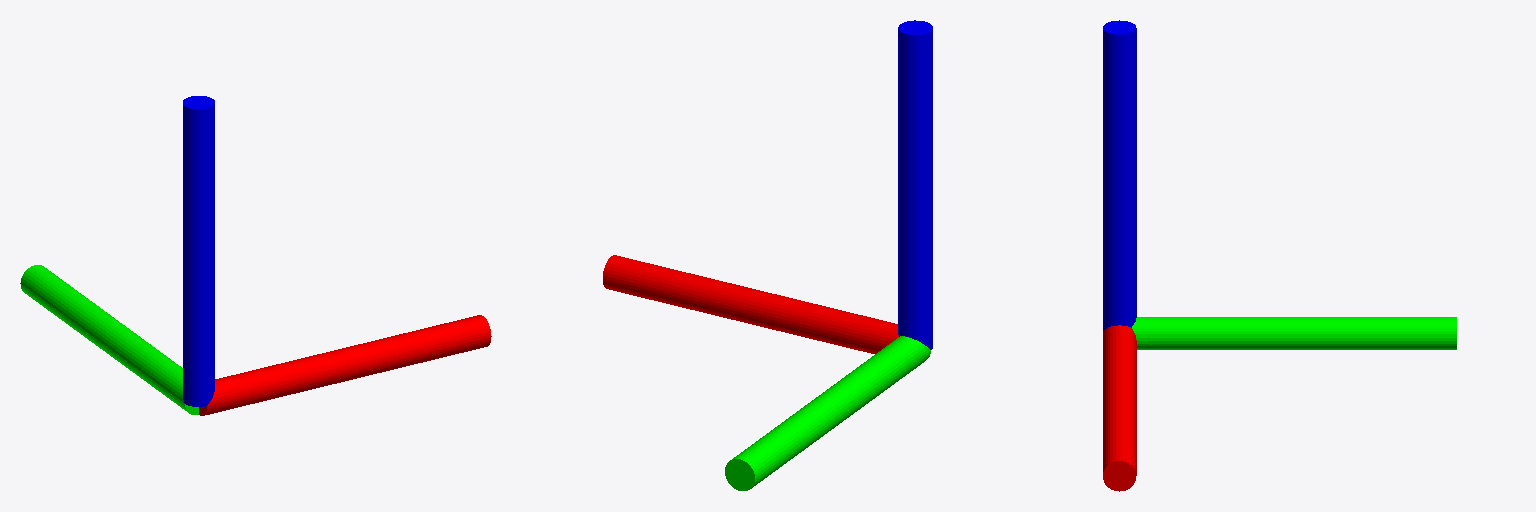
The robot description file, URDF, robot "axis":
<?xml version="1.0" ?>
<robot name="axis">
    <link name="axis">
        <visual name="x_axis">
            <geometry>
                <cylinder length="0.1" radius="0.005"/>
            </geometry>
            <origin xyz="0.05 0 0" rpy="0 1.5707 0"/> <!-- Rotate 90 degrees around Z -->
            <material name="red">
                <color rgba="1 0 0 1"/> <!-- Red Color -->
            </material>
        </visual>

        <!-- Green Arrow for Y-axis -->
        <visual name="z_axis">
            <geometry>
                <cylinder length="0.1" radius="0.005"/>
            </geometry>
            <origin xyz="0 0 0.05" rpy="0 0 1.5707"/> <!-- Rotate -90 degrees around Y -->
            <material name="blue">
                <color rgba="0 0 1 1"/> <!-- Green Color -->
            </material>
        </visual>

        <!-- Blue Arrow for Z-axis -->
        <visual name="y_axis">
            <geometry>
                <cylinder length="0.1" radius="0.005"/>
            </geometry>
            <origin xyz="0 0.05 0" rpy="1.5707 0 0"/> <!-- No rotation needed -->
            <material name="green">
                <color rgba="0 1 0 1"/> <!-- Blue Color -->
            </material>
        </visual>
    </link>
</robot>

--- What the picture shows (computed from the rendered views, not written in the file) ---
Views: 3 orthographic renders of the robot side by side, from view 1: azimuth 30°, elevation 25°; view 2: azimuth 150°, elevation 25°; view 3: azimuth 270°, elevation 25°.
Model axis with 1 links and 0 joints (none), rooted at axis, posed every joint at zero.
Visible links, largest first — view 1: axis; view 2: axis; view 3: axis.
Boxes of the visible links, <box> form: axis: <box>20,96,491,415</box>; axis: <box>603,20,932,490</box>; axis: <box>1103,20,1456,491</box>.
Size in the robot's own frame: 0.105 by 0.105 by 0.105 metres.
Geometry: primitives only (box / cylinder / sphere), no mesh files.